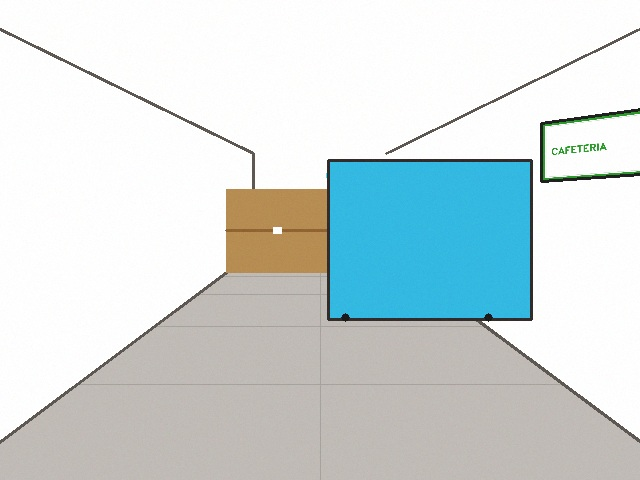box: (226, 189, 328, 272)
cart: (326, 160, 531, 319)
charging_station: (332, 164, 402, 280)
directional_sign: (541, 103, 639, 181)
